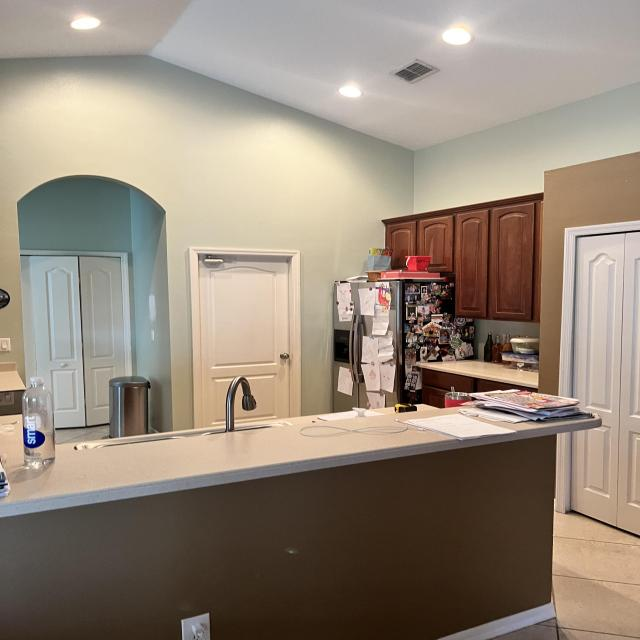Appliance_Fridge: (333, 280, 474, 412)
Appliance_Sink: (73, 376, 274, 450)
Cabinet_Flat: (419, 369, 510, 407)
Cabinet_Raised_Panel: (383, 193, 543, 323)
Countertop_Solid_Surface: (0, 406, 603, 518), (416, 361, 540, 388), (0, 371, 26, 392)
